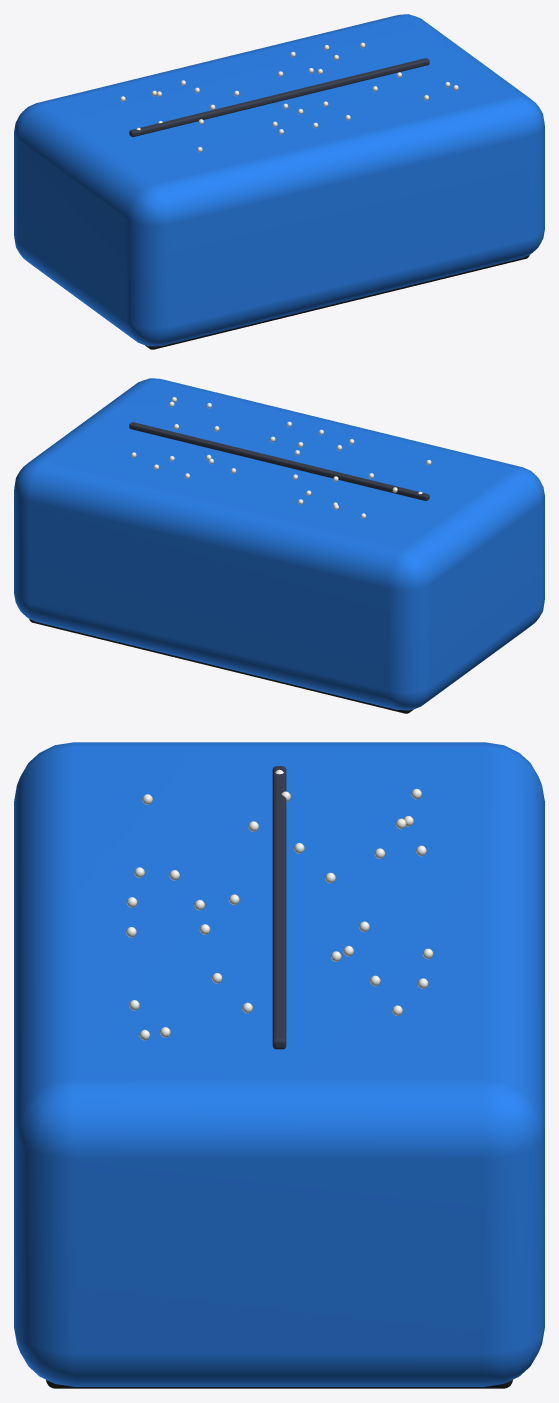
Rendered from Schaumstoffblock_Quader_Blau_3D.glb.
3 views of the same model, one above another, from view 1: azimuth 30°, elevation 25°; view 2: azimuth 150°, elevation 25°; view 3: azimuth 270°, elevation 25° (orthographic). The views are drawn at different scales.
Parts seen in each view (by area): view 1: blue individual rectangular small foam block, blue individual rectangular small foam block stitched top ce, blue individual rectangular small foam block black grip unde; view 2: blue individual rectangular small foam block, blue individual rectangular small foam block stitched top ce, blue individual rectangular small foam block black grip unde; view 3: blue individual rectangular small foam block, blue individual rectangular small foam block stitched top ce, blue individual rectangular small foam block black grip unde.
Boxes of the visible parts, bbox=[...] form: blue individual rectangular small foam block: bbox=[14, 14, 544, 346]; blue individual rectangular small foam block stitched top ce: bbox=[129, 58, 429, 136]; blue individual rectangular small foam block black grip unde: bbox=[145, 255, 529, 349]; blue individual rectangular small foam block: bbox=[14, 378, 544, 710]; blue individual rectangular small foam block stitched top ce: bbox=[129, 422, 429, 500]; blue individual rectangular small foam block black grip unde: bbox=[29, 619, 413, 713]; blue individual rectangular small foam block: bbox=[14, 742, 544, 1386]; blue individual rectangular small foam block stitched top ce: bbox=[272, 766, 286, 1049]; blue individual rectangular small foam block black grip unde: bbox=[46, 1380, 512, 1388].
Size of the model in its own units: 0.92 by 0.3545 by 0.54.
